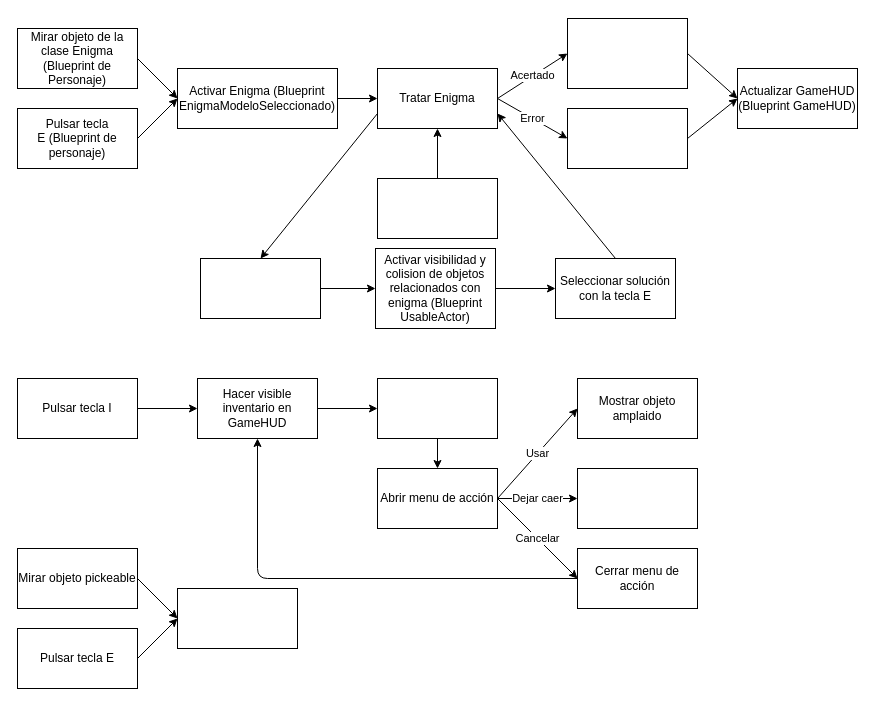
This 875x706 diagram has some shape labels left out. Here are the shapes that lost their labels. From the top down, the box of each, then its label:
(566, 18, 688, 88): Entrar en modo juego Subir puntuación Destruir objetos (Blueprint UsableActor)
(566, 108, 688, 168): Disminuir puntuación (Bluepint UsableActor)
(376, 178, 498, 238): Obtener datos de DatosEnigma (EstructuraEnigma y DatosEnigma)
(200, 258, 320, 318): Enseñar enunciado en EnigmaHUD (Blueprint EnigmaHUD)
(376, 378, 498, 438): Clicar objeto de inventario
(576, 468, 698, 528): Crear objeto en mundo y elimianr del inventario
(176, 588, 298, 648): Añadir objeto al inventario, hacer desaparecer del mundo
